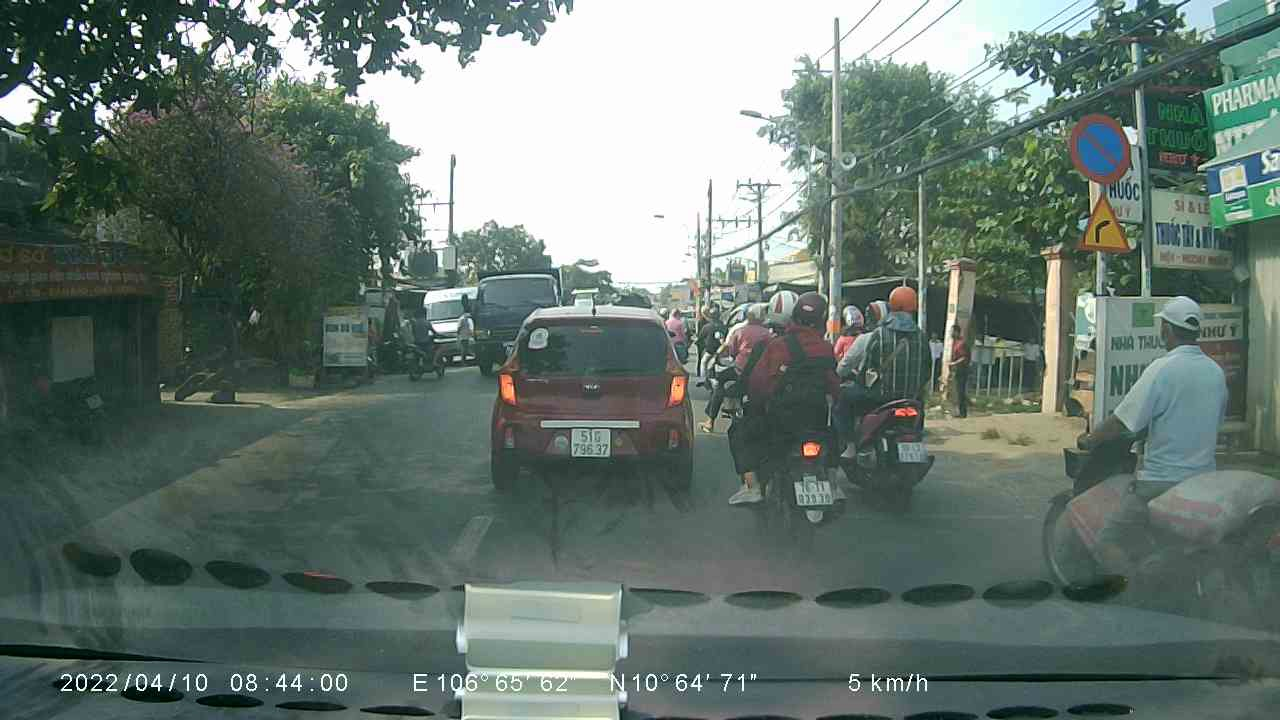Bien khac: (1073, 190, 1132, 254)
Cam do xe: (1063, 109, 1135, 185)
